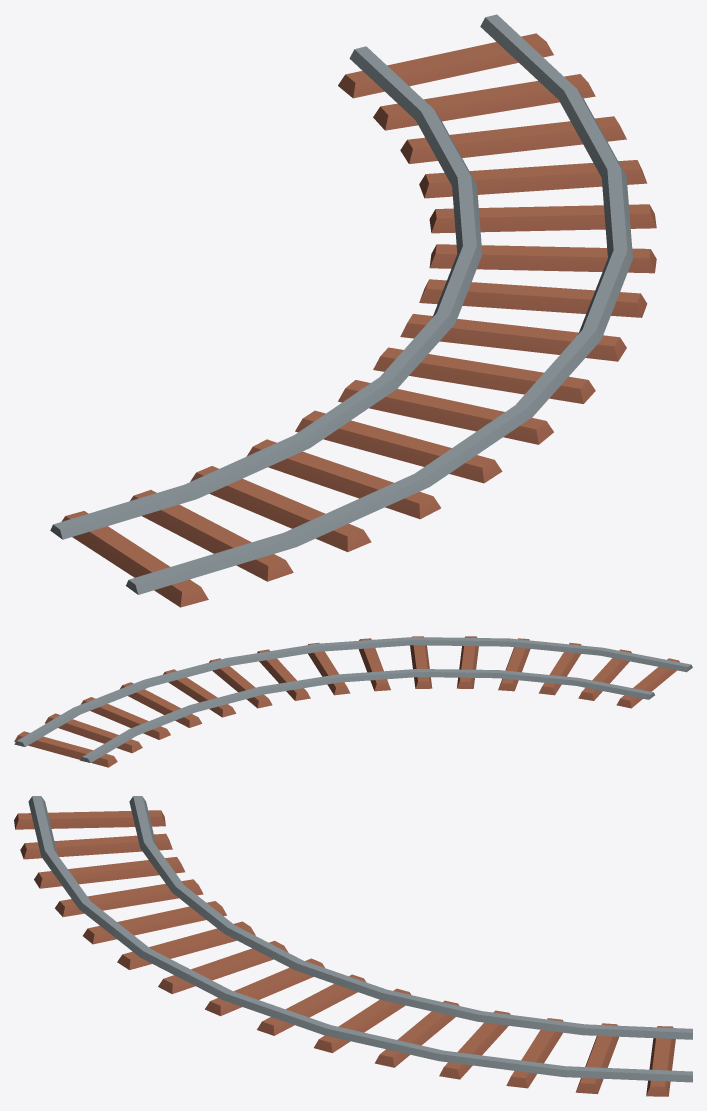
Rendered from tracks_curve.glb.
The picture shows the model from 3 angles, top to bottom: view 1: azimuth 30°, elevation 25°; view 2: azimuth 150°, elevation 25°; view 3: azimuth 270°, elevation 25°; orthographic projection. The views are drawn at different scales.
Parts seen in each view (by area): view 1: tracks_curve; view 2: tracks_curve; view 3: tracks_curve.
Part boxes in pixels (x1,y1,x2,y2): tracks_curve: (50, 14, 656, 607); tracks_curve: (14, 636, 692, 767); tracks_curve: (14, 796, 692, 1096).
Size of the model in its own units: 2.24 by 0.05 by 2.24.
1 material, 1 textured.
